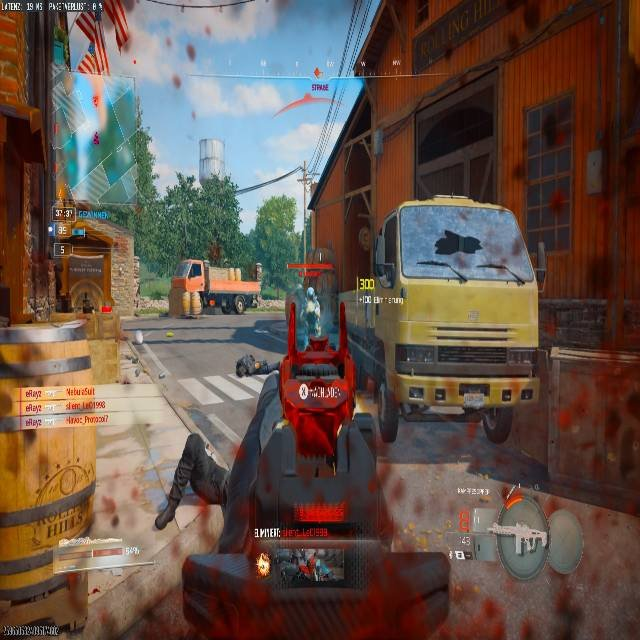player: (295, 280, 325, 346), (302, 283, 321, 335)
